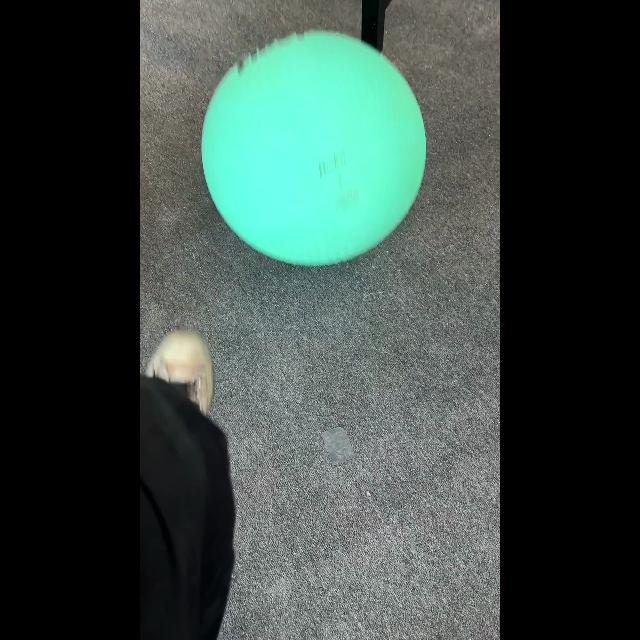ALGAE: (200, 29, 428, 267)
